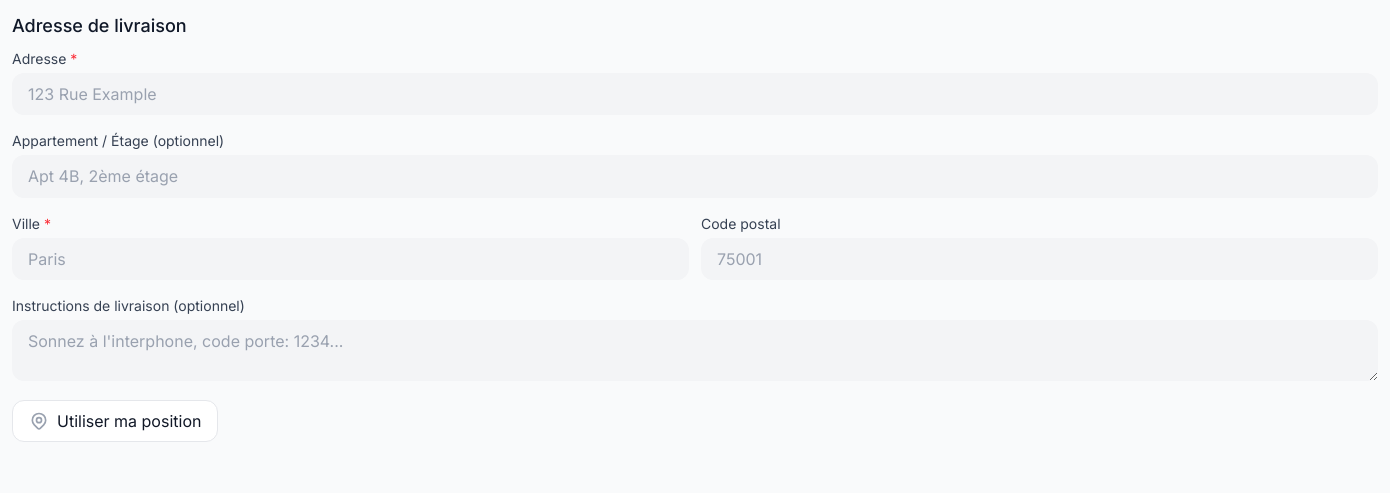
Test: DeliveryAddressForm › shows validation hint when partially filled
Type "123 Main St" into the field with id "street" at (695, 94), box [12,73,1378,115]
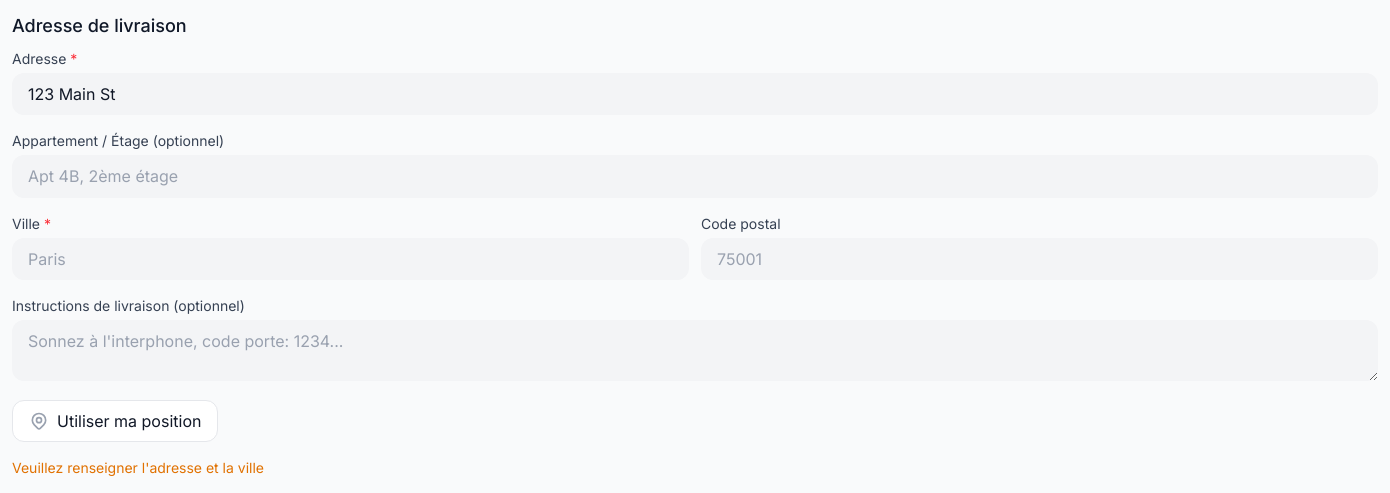
Expected: the text "Veuillez renseigner l'adresse et la ville" is shown, [12,459,264,476]
